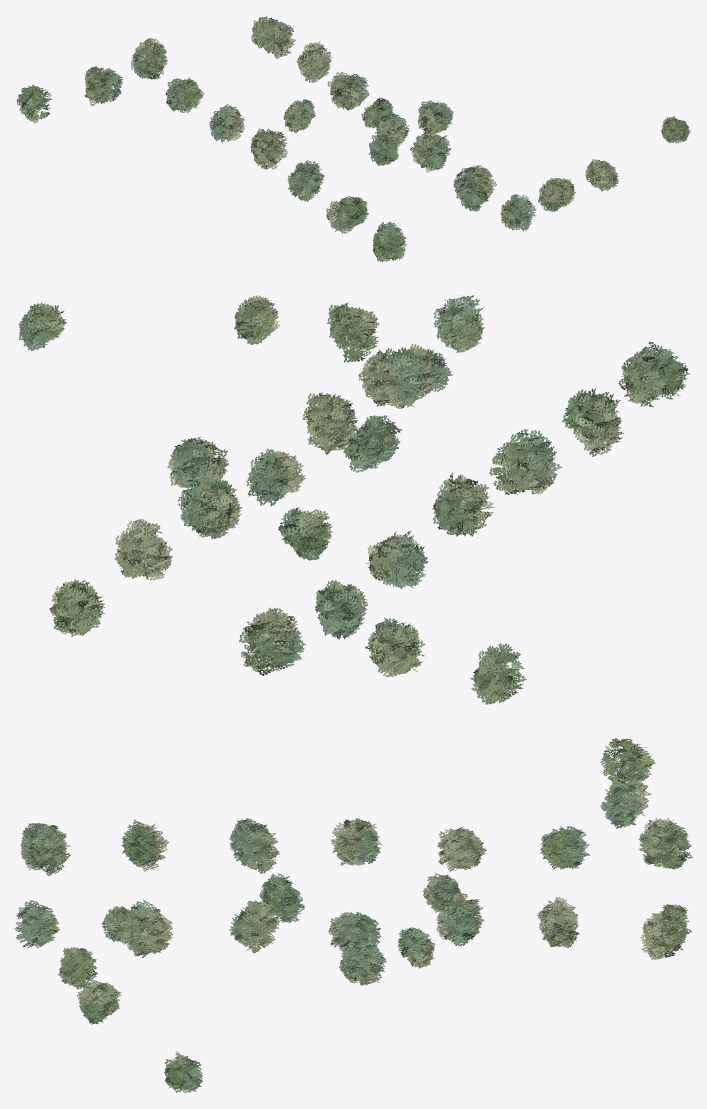
Rendered from campus-tree-3_-4-near.glb.
3 views of the same model, one above another, from view 1: azimuth 30°, elevation 25°; view 2: azimuth 150°, elevation 25°; view 3: azimuth 270°, elevation 25° (orthographic). The views are drawn at different scales.
Parts seen in each view (by area): view 1: Campus leaf canopy; view 2: Campus leaf canopy; view 3: Campus leaf canopy.
Part boxes in pixels (x1,y1,x2,y2): Campus leaf canopy: (16,16,690,262); Campus leaf canopy: (18,295,690,704); Campus leaf canopy: (14,738,692,1093).
Size of the model in its own units: 79.34 by 8.1 by 73.35.
1 material, 1 textured.
